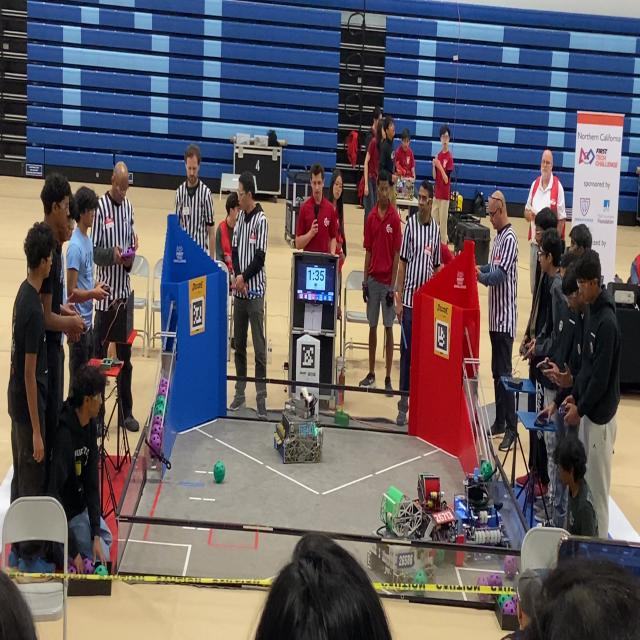artifact_green: (214, 461, 225, 483), (502, 599, 517, 615), (480, 461, 492, 481), (414, 570, 427, 584), (434, 550, 445, 566), (498, 595, 510, 609), (155, 397, 165, 413), (94, 564, 108, 575), (477, 576, 489, 586), (154, 405, 164, 415), (155, 404, 164, 415), (156, 396, 165, 406), (511, 594, 517, 606), (158, 388, 166, 397), (157, 395, 165, 402)
artifact_purple: (504, 555, 518, 579), (149, 434, 161, 455), (502, 600, 517, 615), (489, 573, 503, 588), (84, 558, 94, 573), (150, 421, 162, 433), (150, 426, 161, 439), (150, 423, 162, 433), (477, 576, 489, 586), (159, 382, 168, 395), (477, 576, 488, 586), (152, 415, 162, 426), (68, 562, 77, 574), (160, 379, 168, 390), (158, 388, 166, 397), (160, 377, 168, 386), (158, 380, 164, 391), (512, 595, 517, 606), (161, 388, 167, 397), (68, 556, 74, 564)
